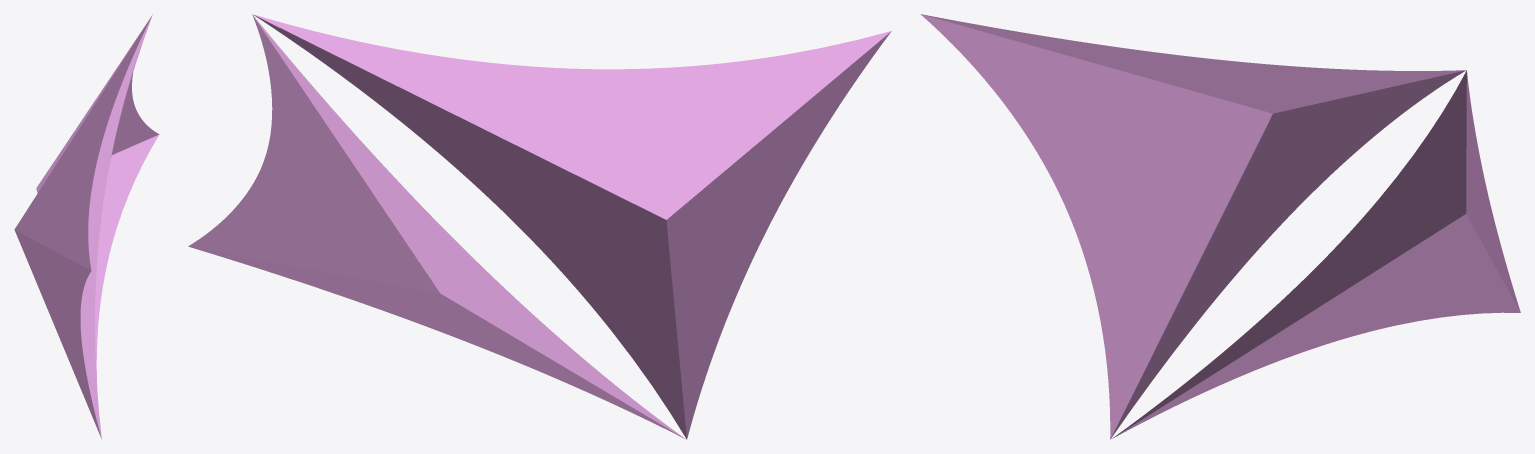
File: TYPE3-3.glb
The picture shows the model from 3 angles, left to right: view 1: azimuth 30°, elevation 25°; view 2: azimuth 150°, elevation 25°; view 3: azimuth 270°, elevation 25°; orthographic projection. The views are drawn at different scales.
Visible parts, largest first — view 1: TYPE3-3 (×6); view 2: TYPE3-3 (×6); view 3: TYPE3-3 (×6).
Boxes of the visible parts, left/top/right/bottom form: TYPE3-3 (×6): left=14, top=15, right=159, bottom=438; TYPE3-3 (×6): left=188, top=14, right=891, bottom=439; TYPE3-3 (×6): left=920, top=14, right=1520, bottom=439.
Size of the model in its own units: 4.32 by 5 by 5.47.
